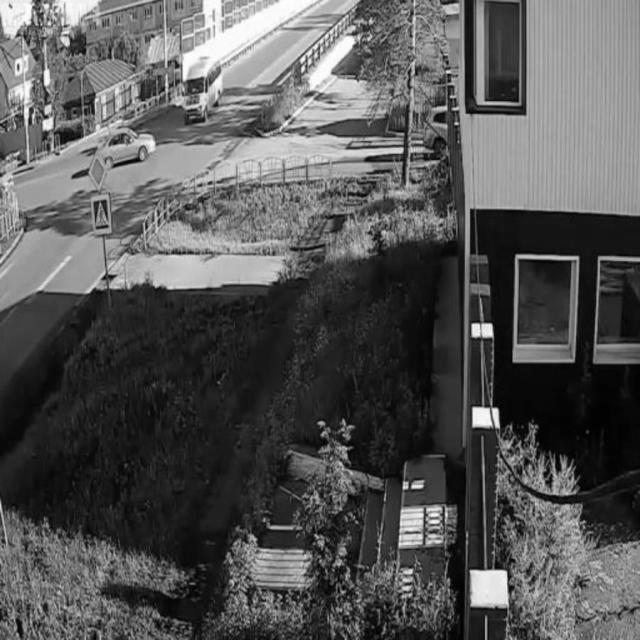vehicle: (182, 45, 226, 126), (96, 128, 160, 169)
